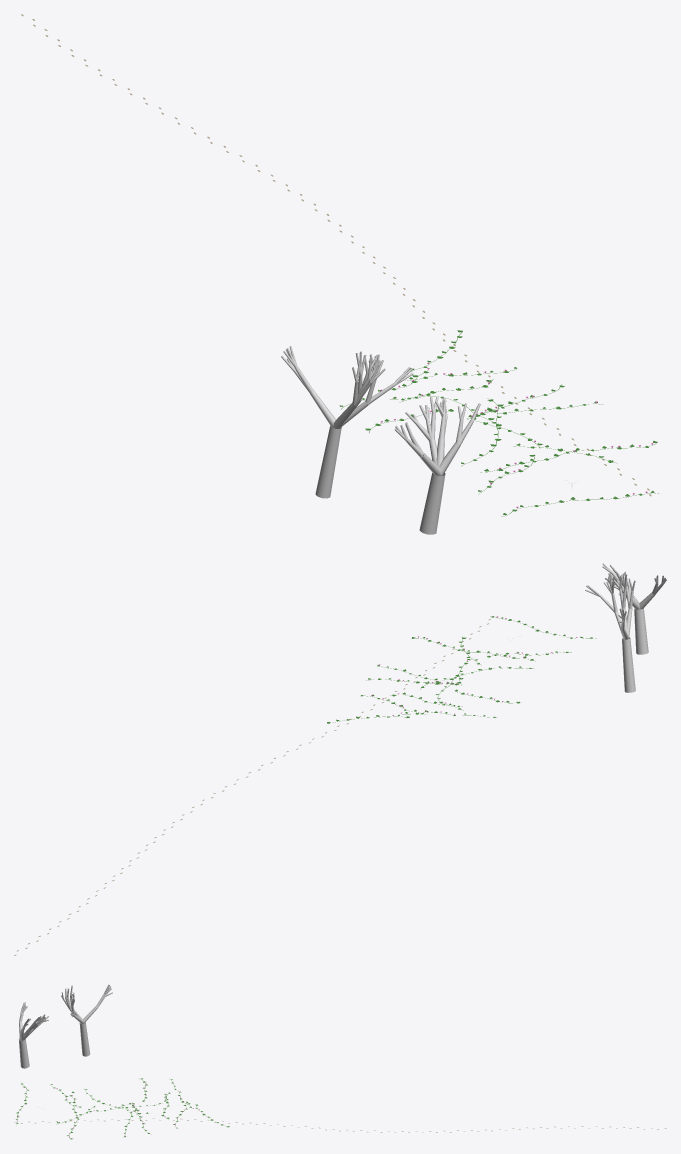
File: groundcover.glb
3 renders of one model, top to bottom at view 1: azimuth 30°, elevation 25°; view 2: azimuth 150°, elevation 25°; view 3: azimuth 270°, elevation 25°, orthographic. The views are drawn at different scales.
Visible parts, largest first — view 1: TakamakaTrunks.001, MGLeaves.001, VineStems.001; view 2: TakamakaTrunks.001, MGLeaves.001; view 3: TakamakaTrunks.001, MGLeaves.001, SandPrints.001.
Boxes of the visible parts, left/top/right/bottom form: TakamakaTrunks.001: left=281, top=346, right=480, bottom=534; MGLeaves.001: left=339, top=330, right=657, bottom=515; VineStems.001: left=341, top=332, right=658, bottom=516; TakamakaTrunks.001: left=585, top=563, right=666, bottom=692; MGLeaves.001: left=327, top=616, right=592, bottom=723; TakamakaTrunks.001: left=19, top=984, right=112, bottom=1068; MGLeaves.001: left=16, top=1078, right=229, bottom=1139; SandPrints.001: left=14, top=1118, right=666, bottom=1132.
Size of the model in its own units: 19.14 by 8.81 by 64.18.
